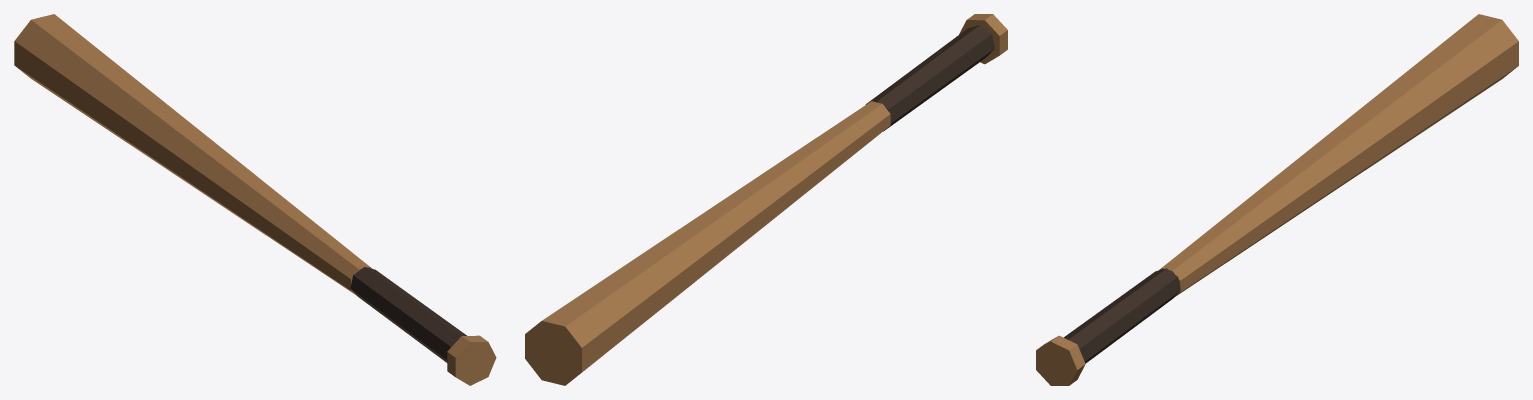
File: w_bat.glb
3 views of the same model, side by side, from view 1: azimuth 30°, elevation 25°; view 2: azimuth 150°, elevation 25°; view 3: azimuth 330°, elevation 25° (orthographic).
Parts seen in each view (by area): view 1: w_bat; view 2: w_bat; view 3: w_bat.
Boxes of the visible parts, x1,y1,x2,y2 form: w_bat: [14, 14, 496, 385]; w_bat: [525, 14, 1007, 385]; w_bat: [1036, 14, 1518, 385].
Size of the model in its own units: 0.0628 by 0.0628 by 0.833.
